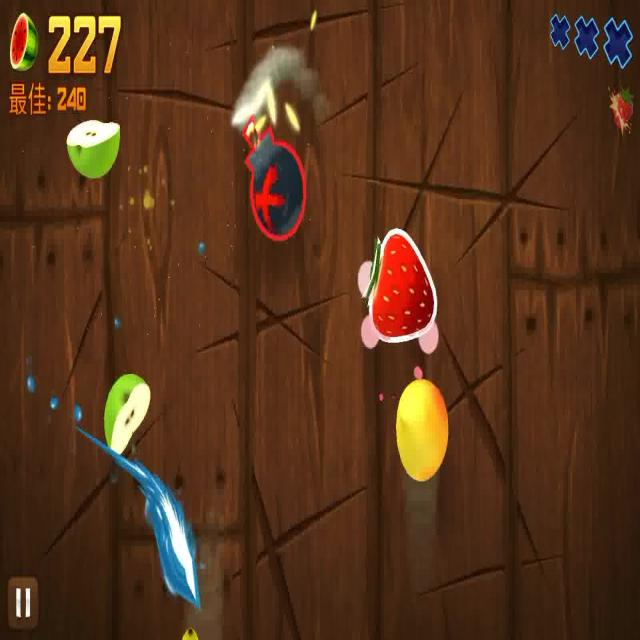bomb: (236, 80, 305, 240)
fruit: (367, 231, 438, 339), (394, 376, 449, 484), (101, 373, 150, 453), (64, 118, 120, 182)
